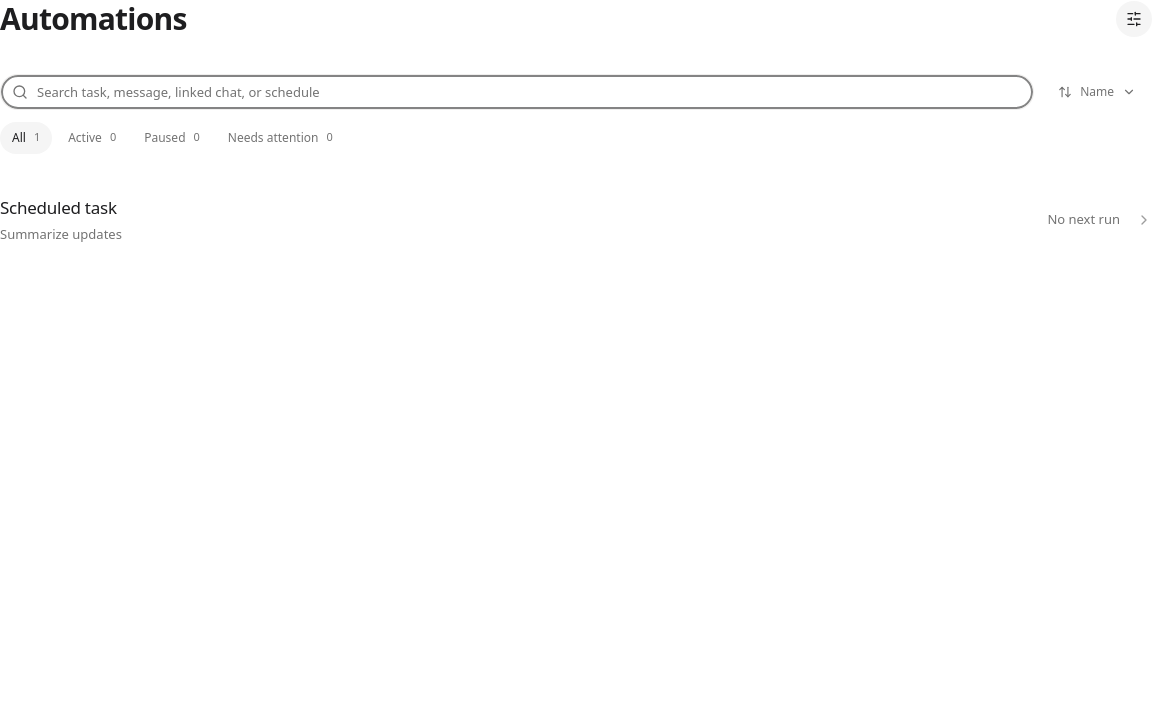
Test: automation channel identity › preserves the label for cli
The width and height of the screenshot is (1152, 720).
Click the button "Scheduled task Summarize updates No next run" at (58, 207), box top-left (0, 174), bottom-right (1151, 266)
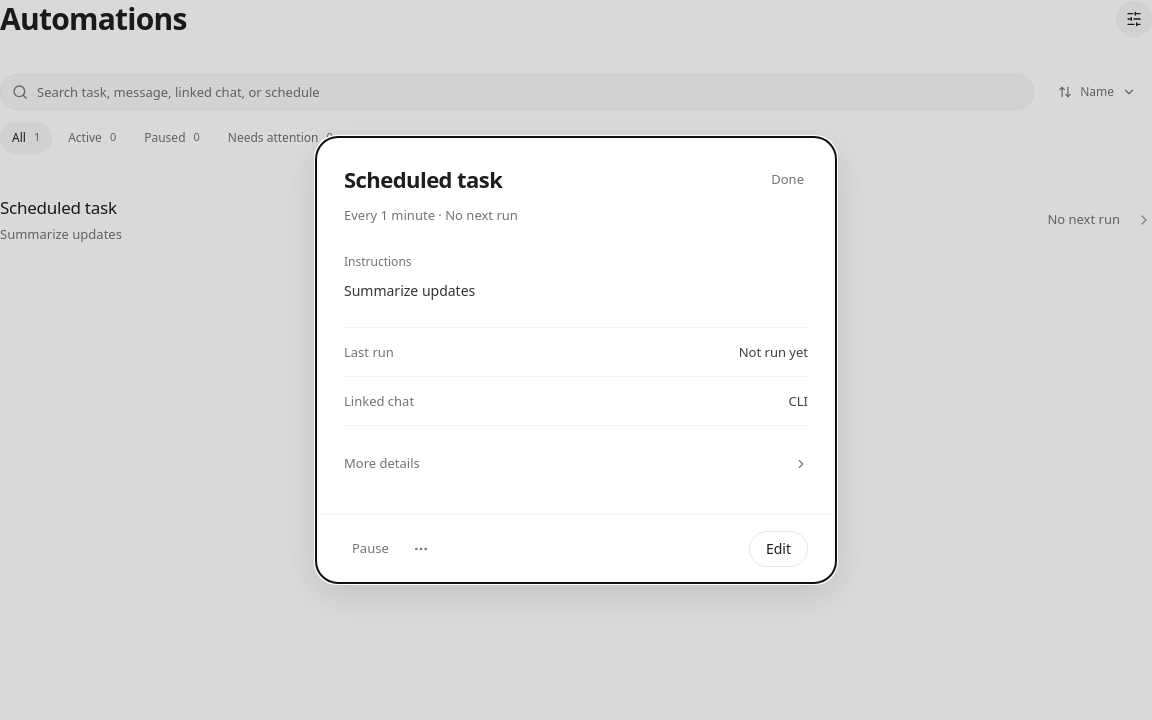
Result: the text "CLI" is shown at top-left (789, 392), bottom-right (808, 410)
